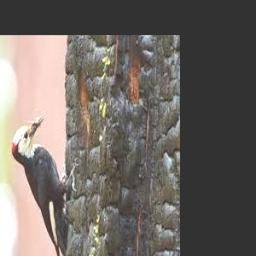Woodpecker: (13, 114, 79, 256)
